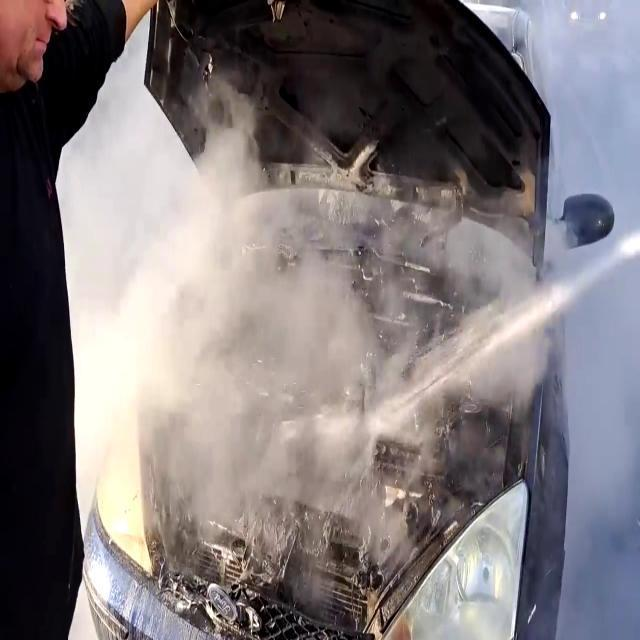Smoke: (66, 122, 484, 577)
